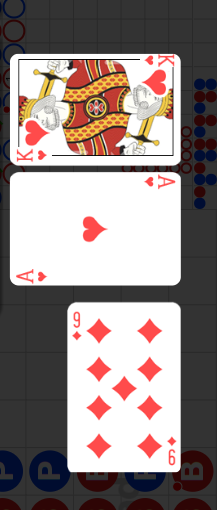9D: (166, 435, 177, 466)
AH: (16, 267, 50, 284)
KH: (143, 54, 176, 67)
